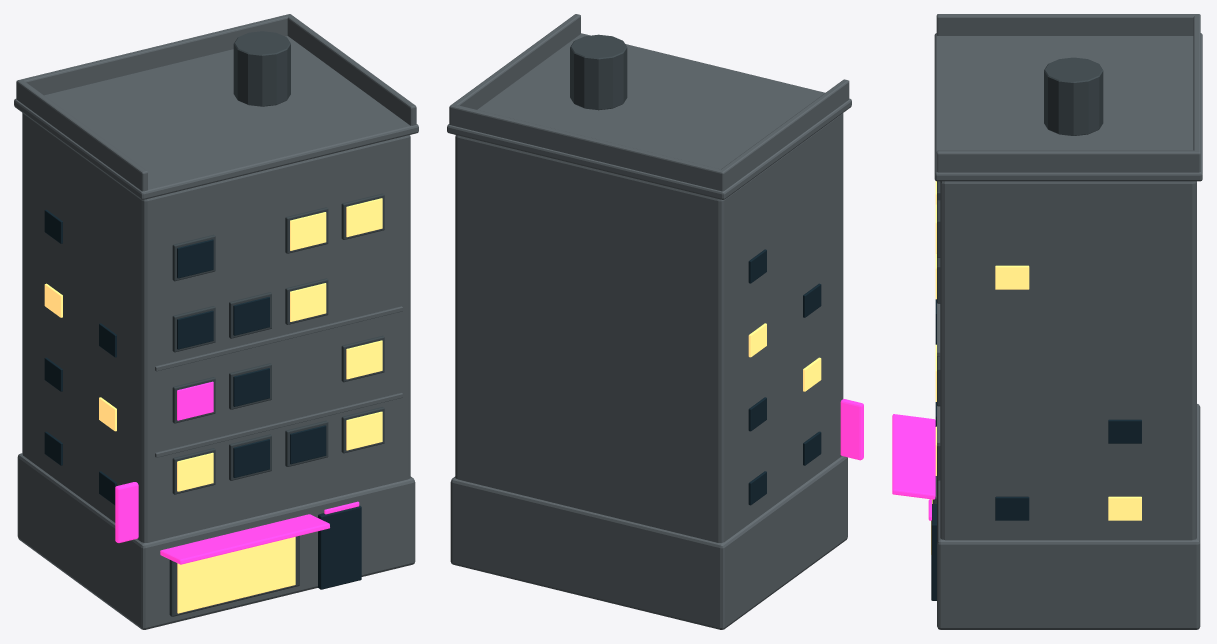
The model's file is night-market_b.glb.
3 views of the same model, side by side, from view 1: azimuth 30°, elevation 25°; view 2: azimuth 150°, elevation 25°; view 3: azimuth 270°, elevation 25° (orthographic). The views are drawn at different scales.
Visible parts, largest first — view 1: ND_Batch_structure, ND_Batch_warm, ND_Batch_metal, ND_Batch_glass, ND_Batch_practical; view 2: ND_Batch_structure, ND_Batch_metal, ND_Batch_glass, ND_Batch_practical, ND_Batch_warm; view 3: ND_Batch_structure, ND_Batch_metal, ND_Batch_practical, ND_Batch_glass, ND_Batch_warm.
Boxes of the visible parts, <box> form: ND_Batch_structure: <box>14,14,418,629</box>; ND_Batch_warm: <box>44,198,382,613</box>; ND_Batch_metal: <box>169,31,384,616</box>; ND_Batch_glass: <box>44,209,361,589</box>; ND_Batch_practical: <box>115,381,359,564</box>; ND_Batch_structure: <box>447,14,851,629</box>; ND_Batch_metal: <box>570,34,627,110</box>; ND_Batch_glass: <box>748,249,821,505</box>; ND_Batch_practical: <box>840,399,863,460</box>; ND_Batch_warm: <box>748,323,821,391</box>; ND_Batch_structure: <box>934,14,1202,629</box>; ND_Batch_metal: <box>932,57,1103,503</box>; ND_Batch_practical: <box>892,414,935,520</box>; ND_Batch_glass: <box>931,299,1141,600</box>; ND_Batch_warm: <box>931,181,1141,554</box>.
Bounding box in the file's own units: 8.6 × 13.78 × 7.5.
